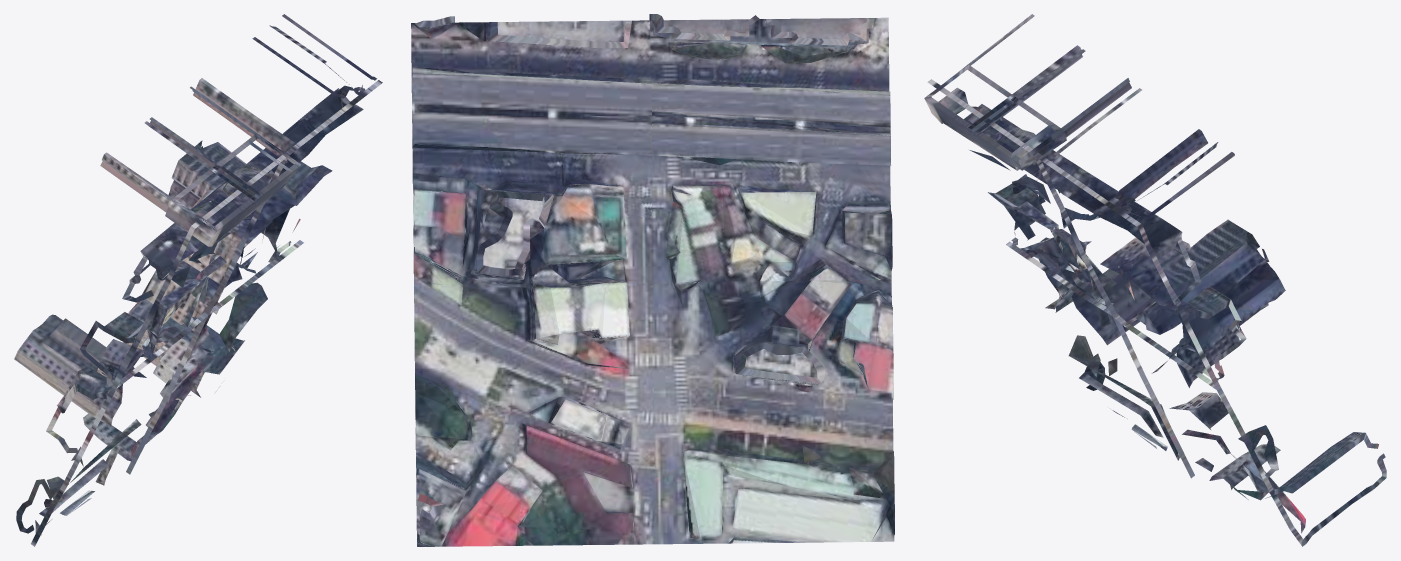
3 renders of one model, left to right at view 1: azimuth 30°, elevation 25°; view 2: azimuth 150°, elevation 25°; view 3: azimuth 270°, elevation 25°, orthographic. The views are drawn at different scales.
Bounding box in the file's own units: 156 × 158 × 159.
1 material, 1 textured.
